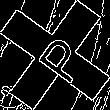P_NW: (24, 25, 86, 85)
